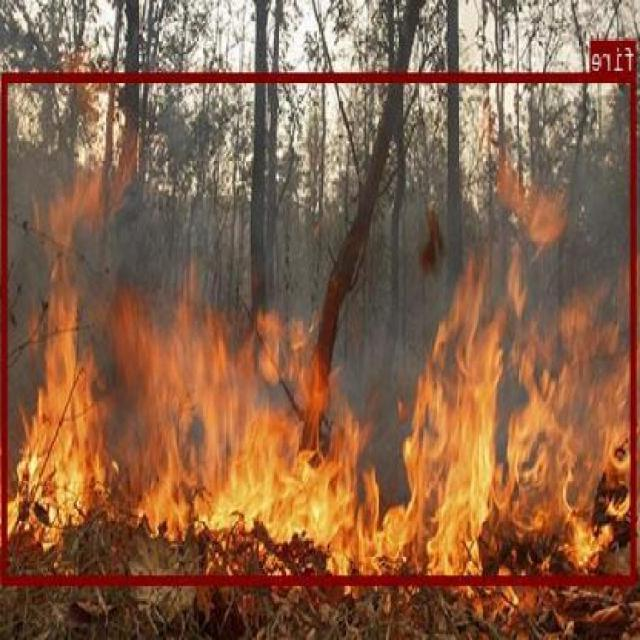Fire: (4, 71, 638, 584)
